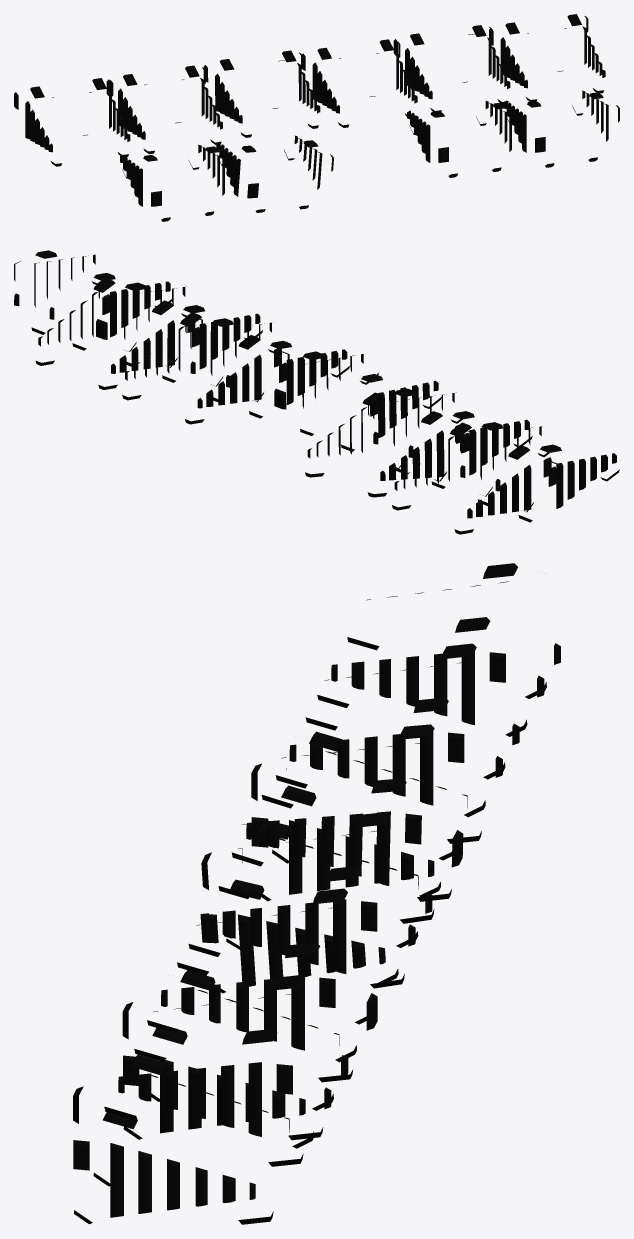
The model's file is prop_static_tan_container_01_02.glb.
3 renders of one model, top to bottom at view 1: azimuth 30°, elevation 25°; view 2: azimuth 150°, elevation 25°; view 3: azimuth 270°, elevation 25°, orthographic. The views are drawn at different scales.
Parts seen in each view (by area): view 1: tan_container_01_02_LOD0; view 2: tan_container_01_02_LOD0; view 3: tan_container_01_02_LOD0.
Boxes of the visible parts, left/top/right/bottom form: tan_container_01_02_LOD0: left=14, top=14, right=619, bottom=221; tan_container_01_02_LOD0: left=14, top=250, right=619, bottom=534; tan_container_01_02_LOD0: left=73, top=563, right=560, bottom=1224.
Size of what is drawn, in the model's own units: 12.44 by 2.73 by 5.08.
1 material, 1 textured.
